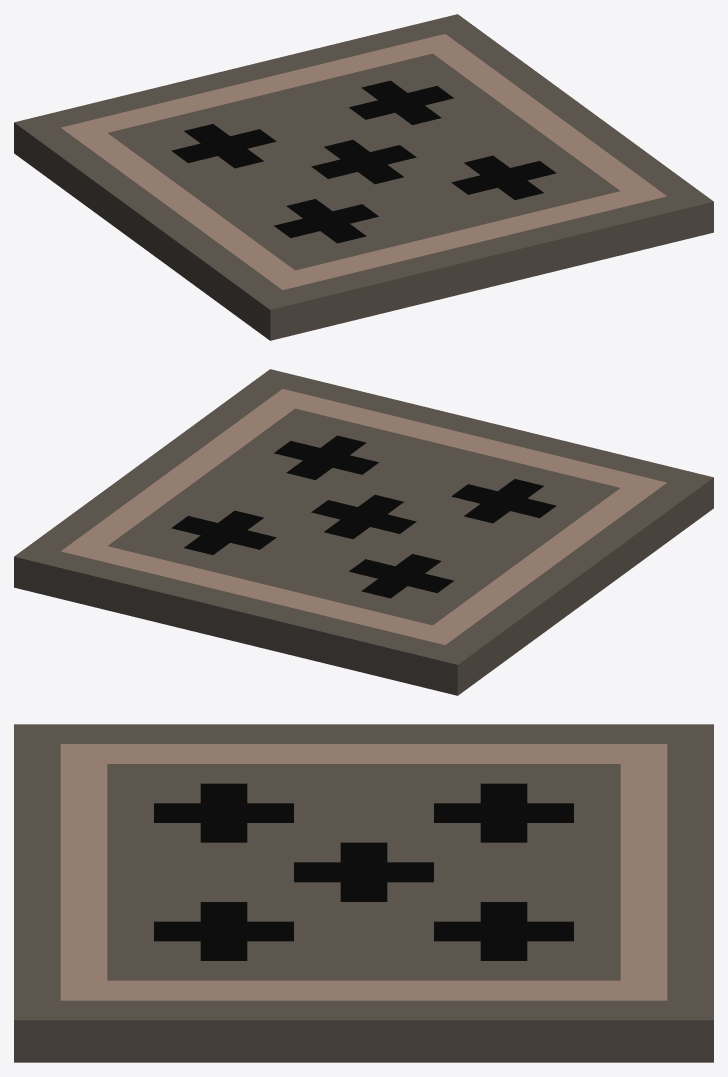
File: dungeon_a_a_ground_b_b.obj
3 renders of one model, top to bottom at view 1: azimuth 30°, elevation 25°; view 2: azimuth 150°, elevation 25°; view 3: azimuth 270°, elevation 25°, orthographic. The views are drawn at different scales.
Bounding box in the file's own units: 1.5 × 0.1 × 1.5.
1 material, 1 textured.
